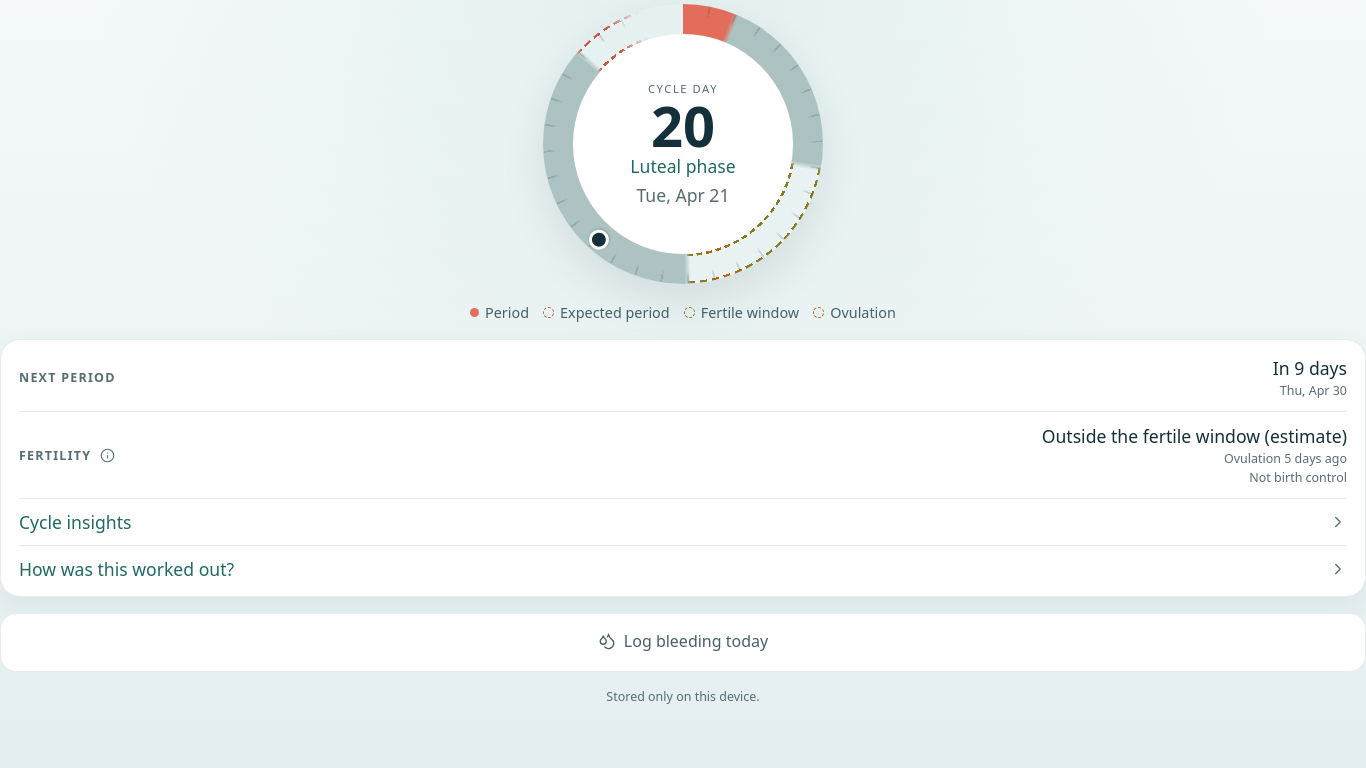
Test case: ForecastExplainer › shows the cycle lengths, the median and the sum behind the date
What coordinates should you click on to do the following:
click the button "How was this worked out?"
I would click on:
 (127, 569)
Its box is [19,545,1347,592].
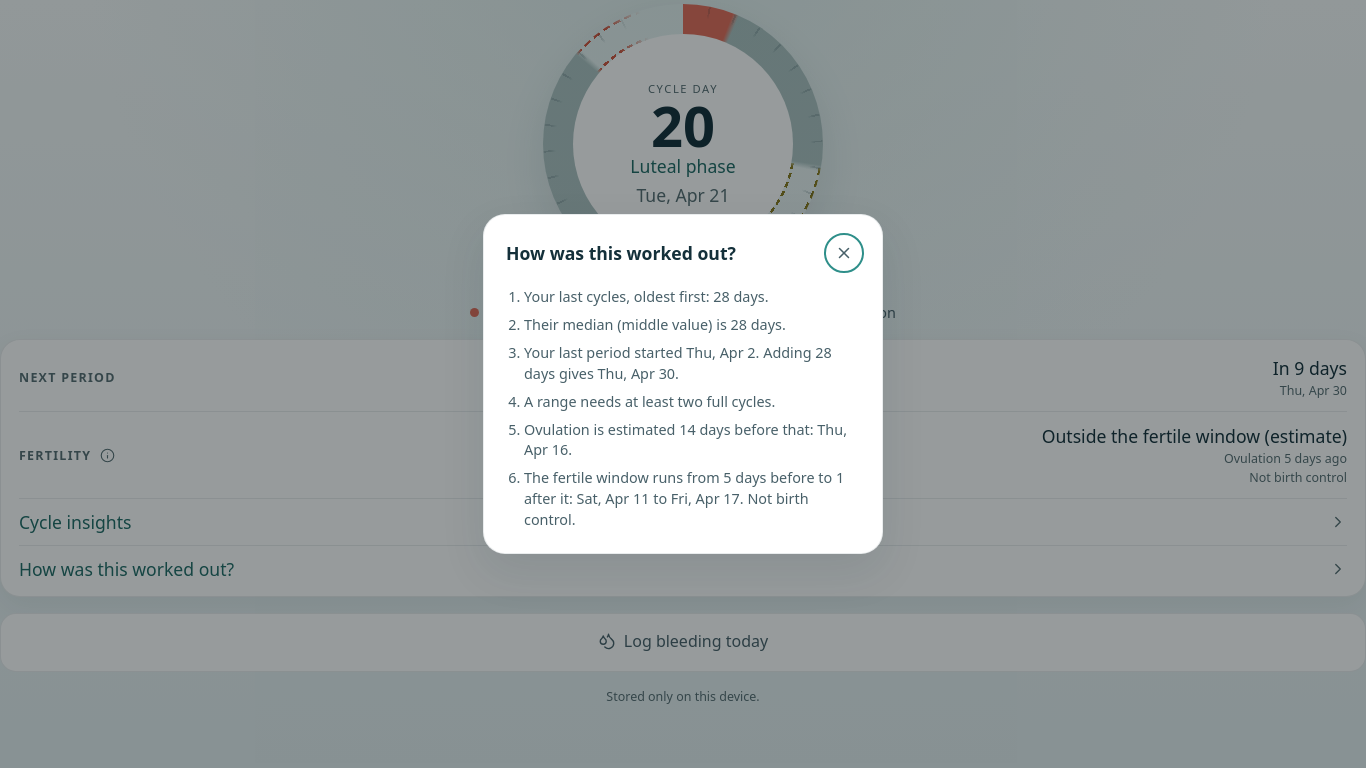
Expected: the list item "Your last cycles, oldest first: 28 days." is shown, [524,287,768,306]
Expected: the list item "Their median (middle value) is 28 days." is shown, [524,315,786,334]
Expected: the list item "started Thu, Apr 2. Adding 28 days gives Thu, Apr 30" is shown, [524,343,832,383]
